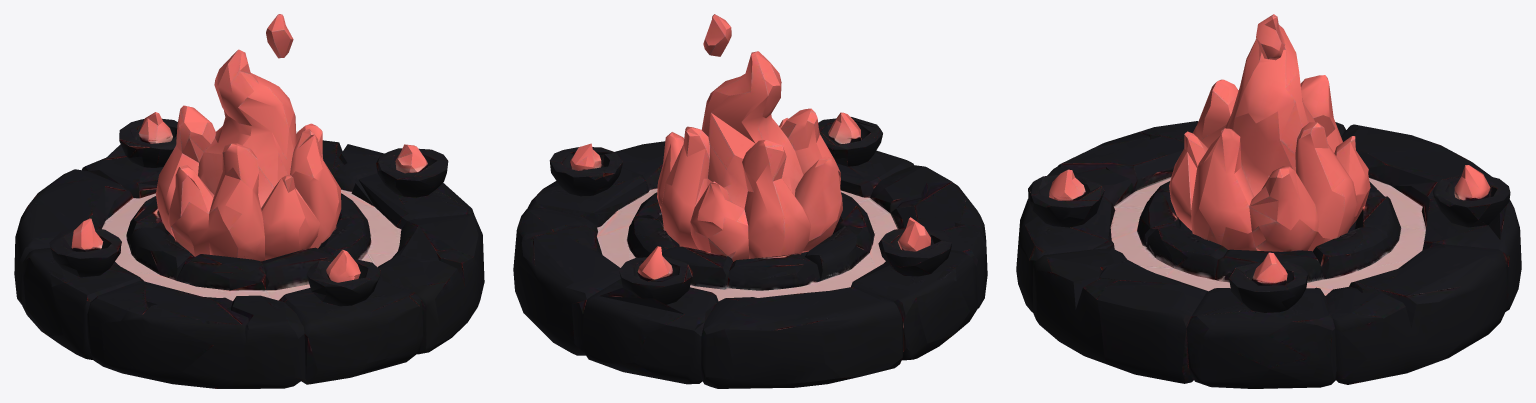
File: portal_demons.glb
3 renders of one model, left to right at view 1: azimuth 30°, elevation 25°; view 2: azimuth 150°, elevation 25°; view 3: azimuth 270°, elevation 25°, orthographic. The views are drawn at different scales.
Bounding box in the file's own units: 1.9 × 1.22 × 1.9.
Materials: 1 (1 with a texture image).
